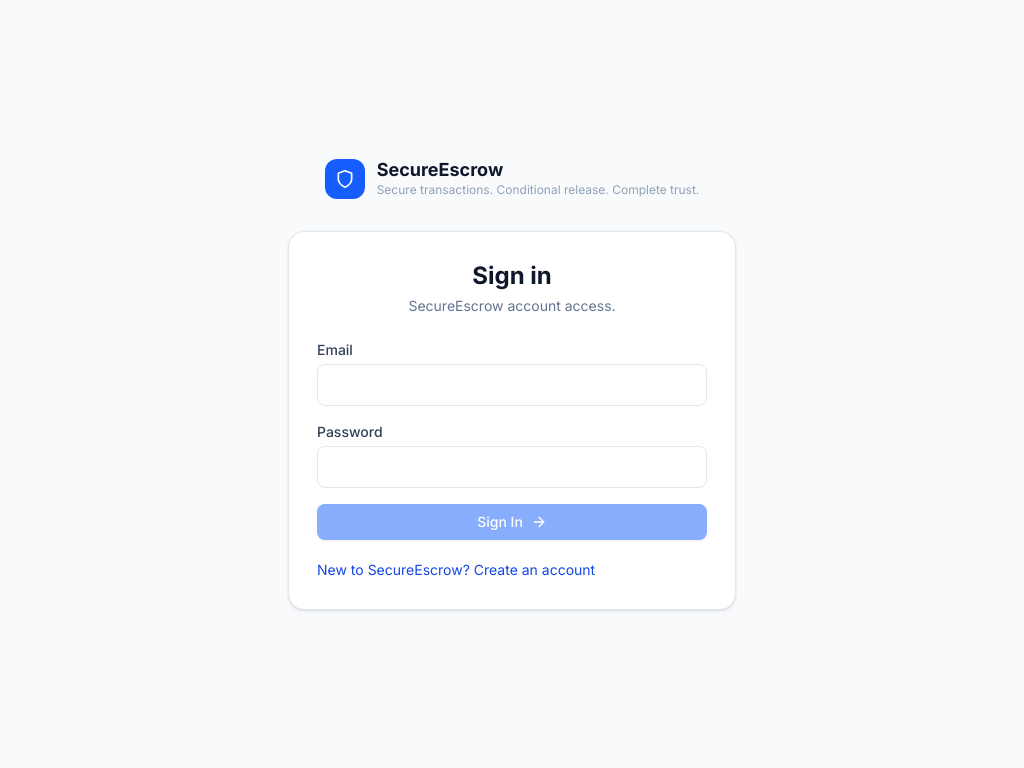
Test: dashboard initial data loading › loads once after login instead of repeating requests on loading-state renders
This screenshot has width=1024, height=768.
Type "client@example.com" into the field labelled "Email" at (512, 384), box [317,364,707,406]
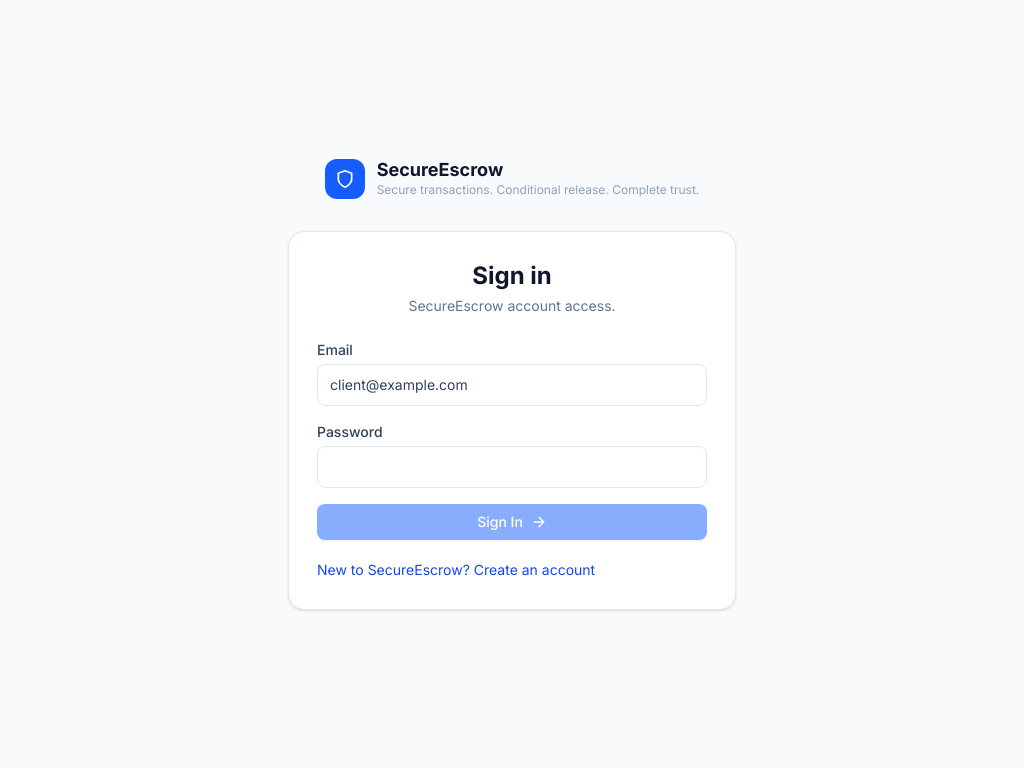
Type "secret123" into the password field labelled "Password" at (512, 466), box [317,446,707,488]
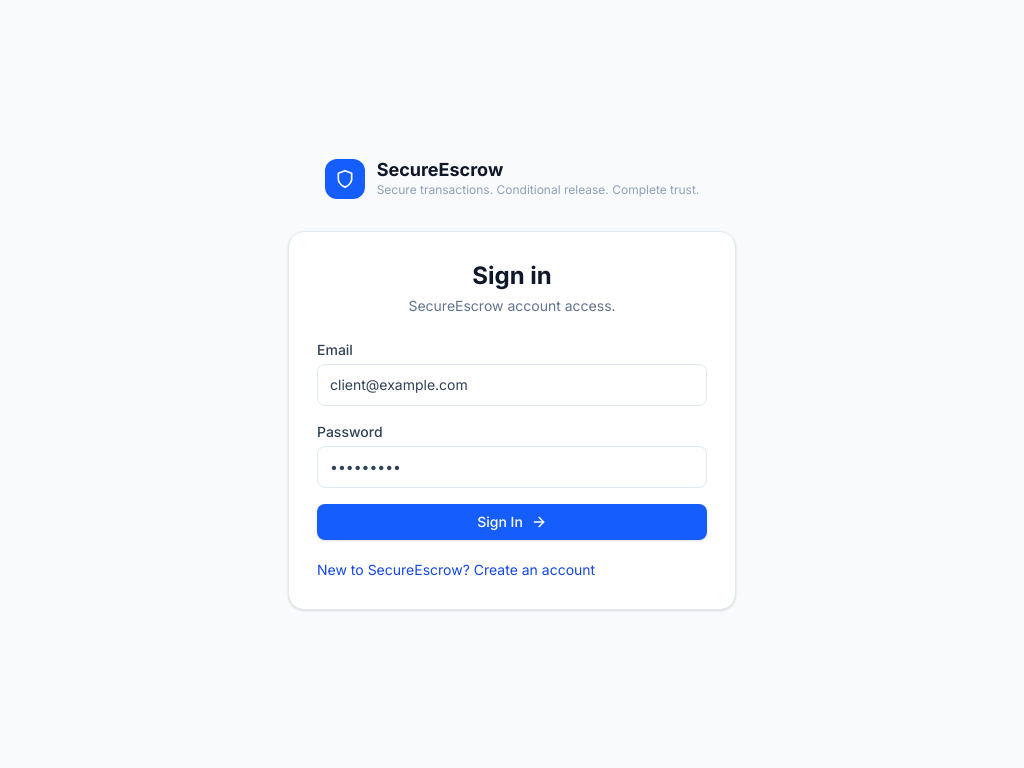
Click the button "Sign In" at (512, 522), box [317,504,707,540]
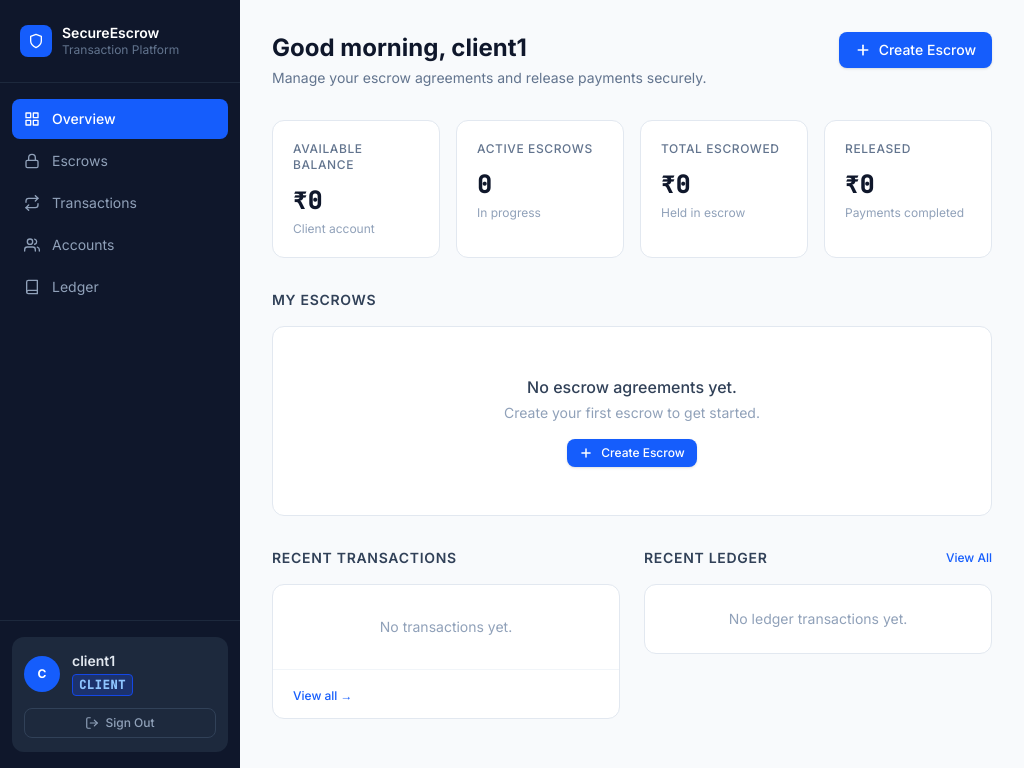
Check: the button "Overview" is shown, box [12,98,228,138]
Click the button "Create Escrow" in the row of "Good morning" at (915, 50), box [839,32,992,68]
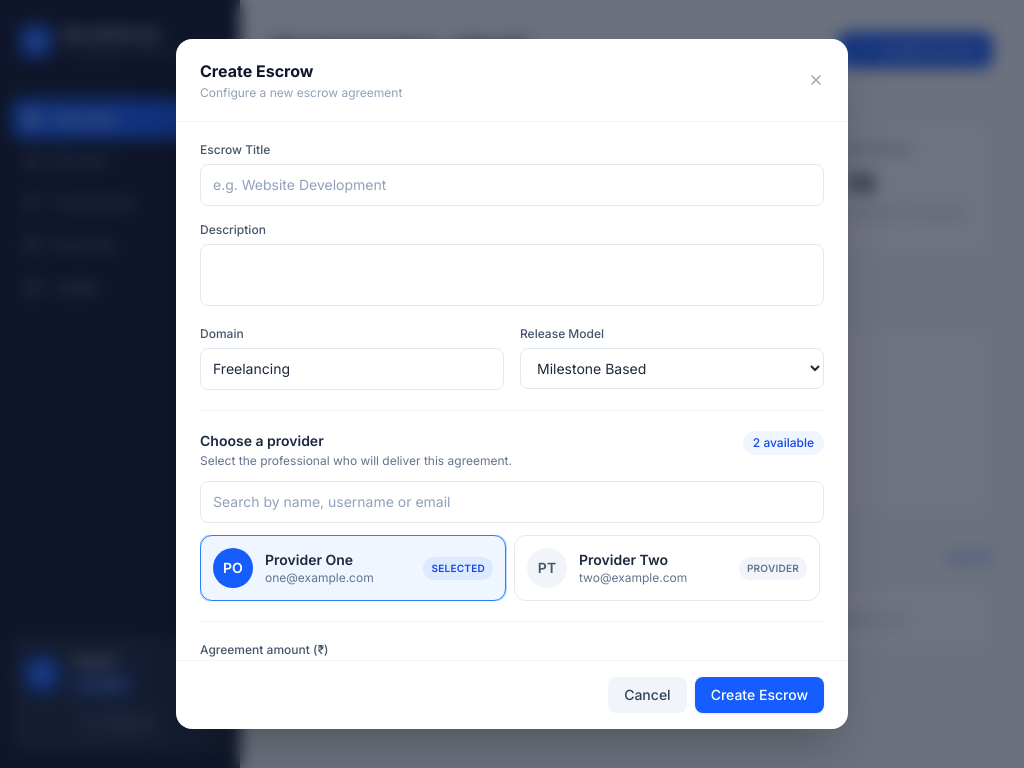
Check: the button "PO Provider One one@example.com Selected" is shown, box [200,535,506,601]
Click the button "PT Provider Two two@example.com Provider" at (667, 568), box [514,535,820,601]
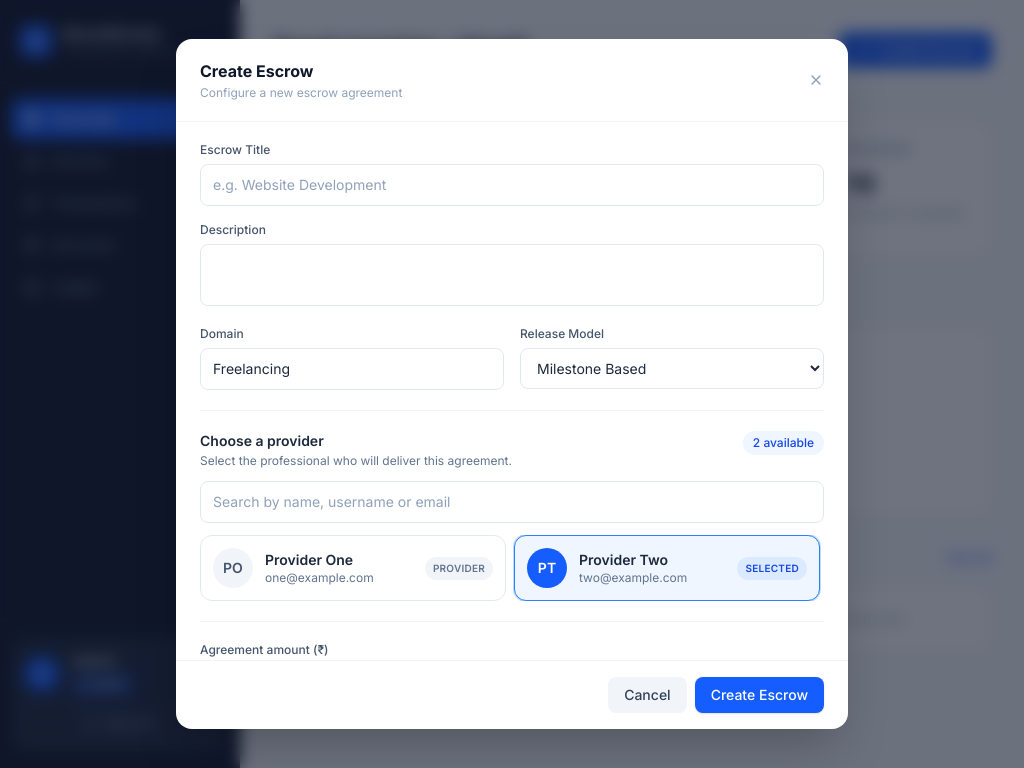
Check: the button "PT Provider Two two@example.com Selected" is pressed, box [514,535,820,601]
Type "one@example.com" into the search field named "Search providers" at (512, 502), box [200,481,824,523]
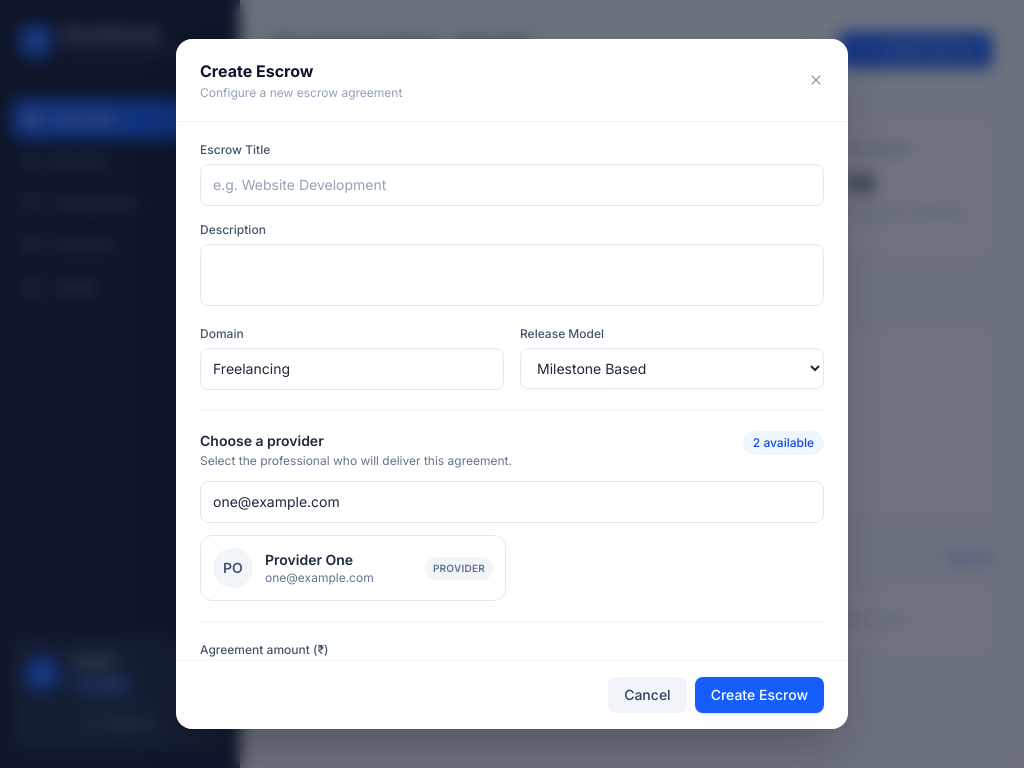
Check: the button "PO Provider One one@example.com Provider" is shown, box [200,535,506,601]
Check: the button "Provider Two" is gone
